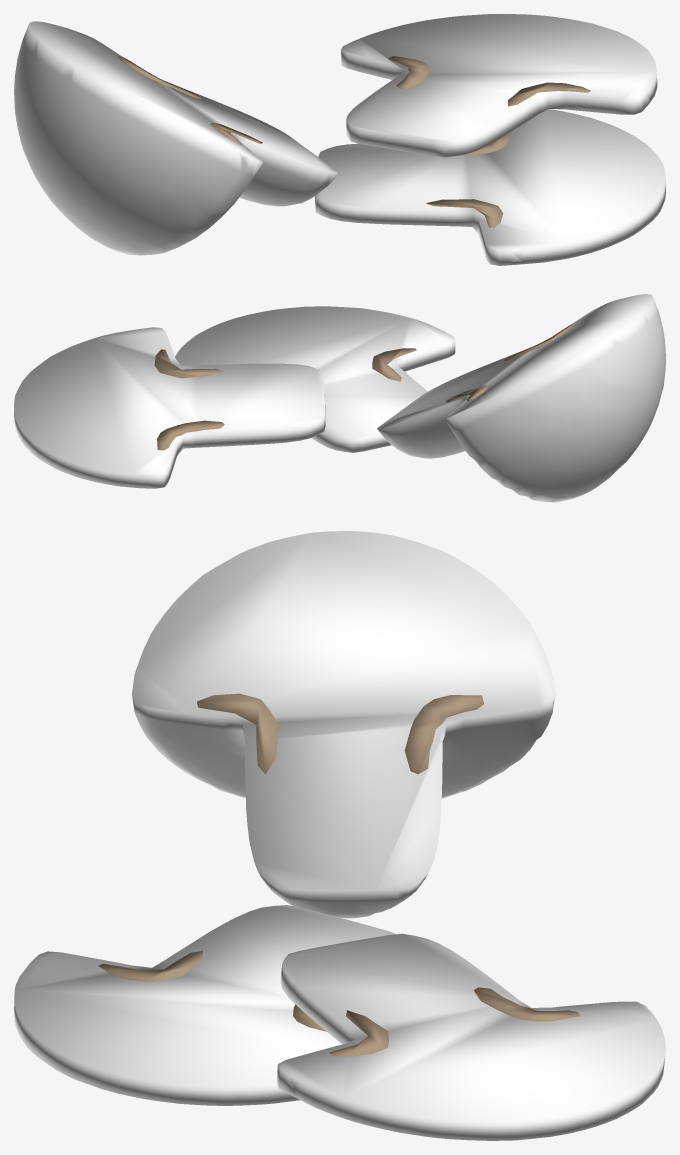
Rendered from pokrojona_pieczarka.gltf.
3 views of the same model, one above another, from view 1: azimuth 30°, elevation 25°; view 2: azimuth 150°, elevation 25°; view 3: azimuth 270°, elevation 25° (orthographic). The views are drawn at different scales.
Parts seen in each view (by area): view 1: Sphere.003; view 2: Sphere.003; view 3: Sphere.003.
Boxes of the visible parts, x1,y1,x2,y2 form: Sphere.003: (14, 14, 665, 265); Sphere.003: (14, 294, 665, 502); Sphere.003: (14, 531, 665, 1140).
Size of the model in its own units: 4.25 by 1.28 by 3.02.
